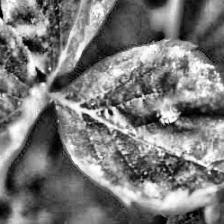Powdery Mildew Leaf: (50, 37, 224, 214), (0, 0, 141, 80), (0, 0, 50, 182)
